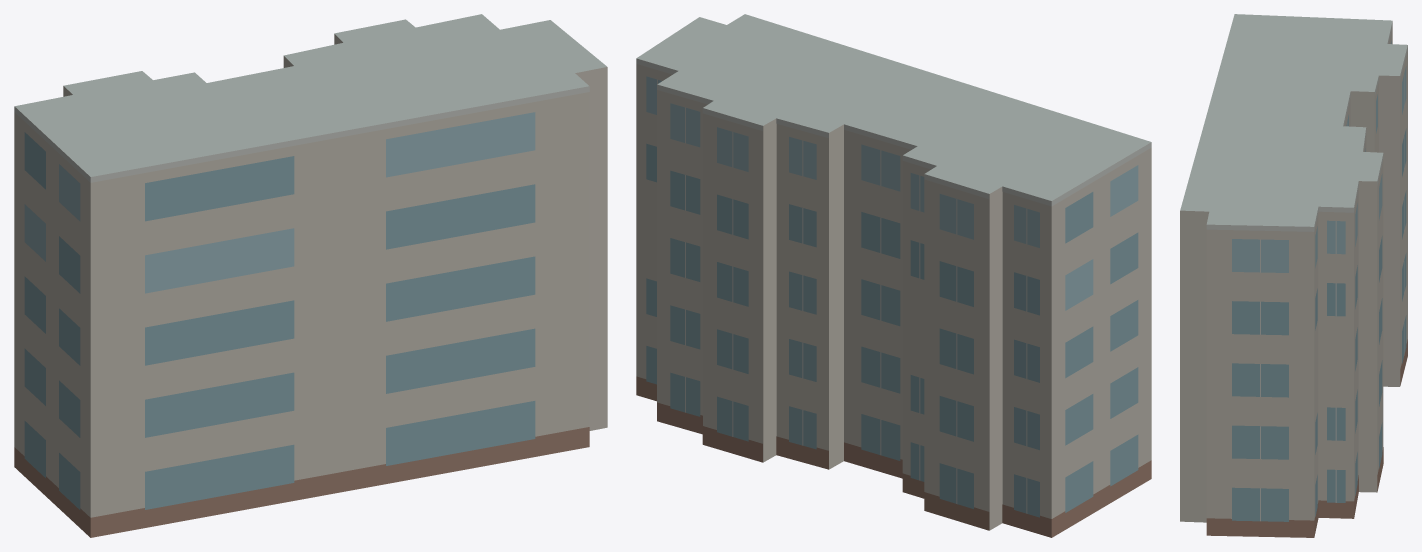
The model's file is survey-upis-33007591.glb.
3 views of the same model, side by side, from view 1: azimuth 30°, elevation 25°; view 2: azimuth 150°, elevation 25°; view 3: azimuth 270°, elevation 25° (orthographic). The views are drawn at different scales.
Parts seen in each view (by area): view 1: survey-upis-33007591.tmp; view 2: survey-upis-33007591.tmp; view 3: survey-upis-33007591.tmp.
Part boxes in pixels (left/top/right/bottom): survey-upis-33007591.tmp: left=14, top=14, right=607, bottom=537; survey-upis-33007591.tmp: left=636, top=14, right=1151, bottom=537; survey-upis-33007591.tmp: left=1180, top=14, right=1407, bottom=537.
Size of the model in its own units: 22.39 by 15.25 by 10.13.
